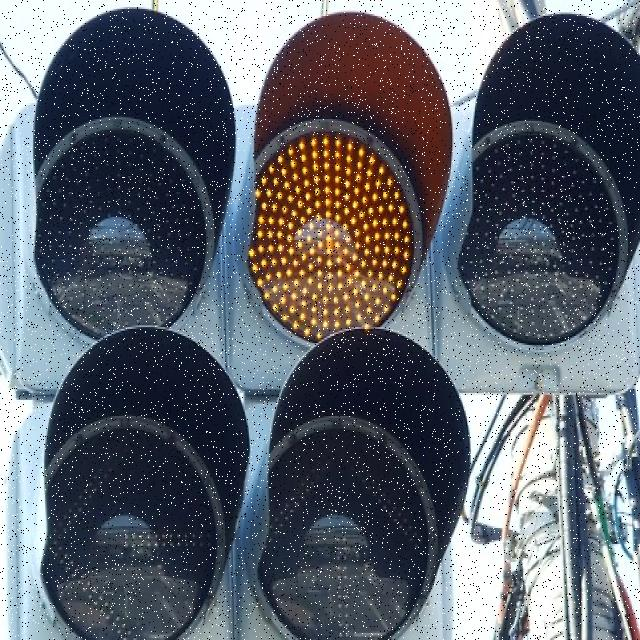Yellow-traffic-light: (257, 96, 467, 327)
